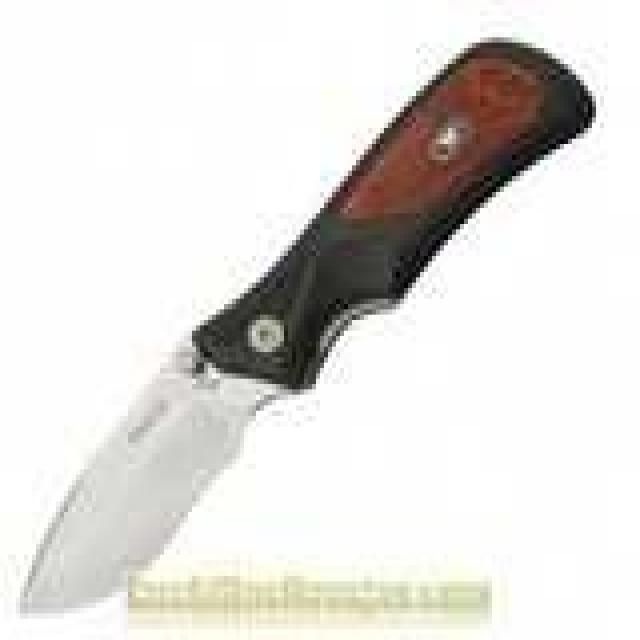weapon: (18, 33, 598, 612)
